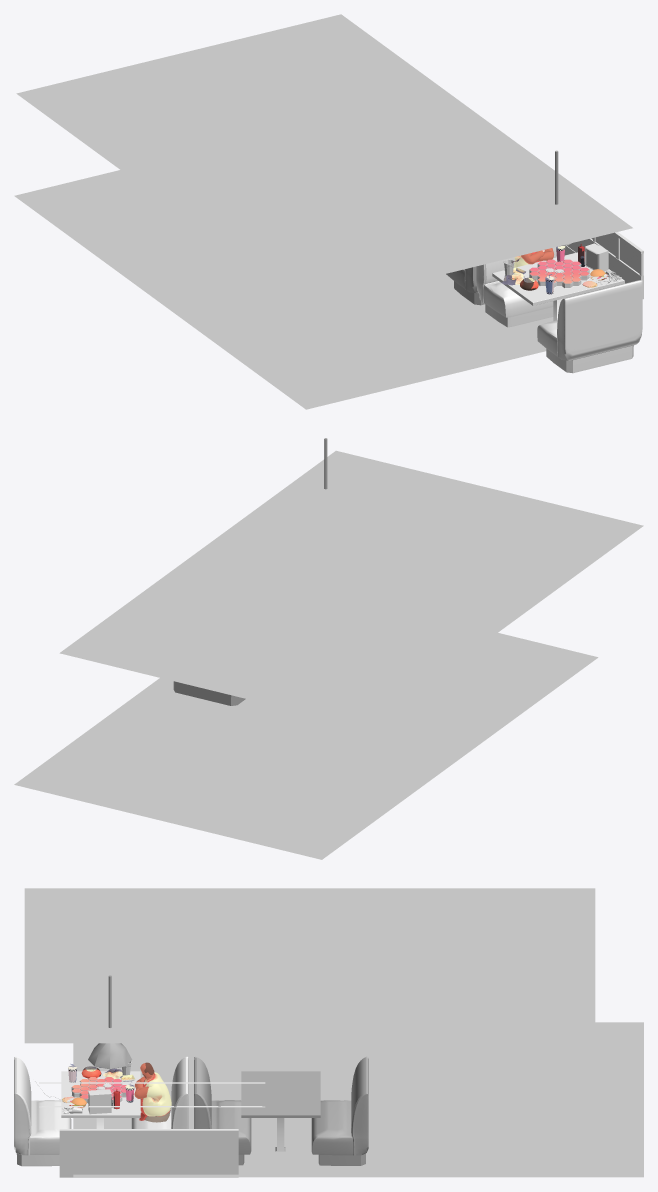
The model's file is full_scene.glb.
3 views of the same model, one above another, from view 1: azimuth 30°, elevation 25°; view 2: azimuth 150°, elevation 25°; view 3: azimuth 270°, elevation 25° (orthographic). The views are drawn at different scales.
Visible parts, largest first — view 1: floor.001, floor, boothSeat_user, boothSeat_moe, table, window, gameboard, table_background, napkin; view 2: floor.001, floor, table_background; view 3: floor.001, floor, table_background, wall, boothSeat_user, owner.001, boothSeat_moe, table, overheadLamp, window, gameboard, napkin.
Boxes of the visible parts, left/top/right/bottom form: floor.001: left=16, top=14, right=632, bottom=307; floor: left=14, top=170, right=553, bottom=409; boothSeat_user: left=537, top=280, right=642, bottom=373; boothSeat_moe: left=476, top=247, right=556, bottom=327; table: left=492, top=251, right=624, bottom=320; window: left=567, top=232, right=643, bottom=299; gameboard: left=529, top=259, right=589, bottom=288; table_background: left=446, top=266, right=484, bottom=305; napkin: left=585, top=243, right=608, bottom=271; floor.001: left=59, top=450, right=643, bottom=728; floor: left=14, top=633, right=598, bottom=859; table_background: left=173, top=681, right=245, bottom=705; floor.001: left=24, top=888, right=595, bottom=1043; floor: left=73, top=1022, right=643, bottom=1177; table_background: left=194, top=1056, right=368, bottom=1165; wall: left=59, top=1129, right=238, bottom=1177; boothSeat_user: left=14, top=1056, right=71, bottom=1166; owner.001: left=134, top=1062, right=171, bottom=1122; boothSeat_moe: left=131, top=1056, right=188, bottom=1128; table: left=61, top=1071, right=140, bottom=1128; overheadLamp: left=88, top=975, right=132, bottom=1069; window: left=39, top=1082, right=265, bottom=1107; gameboard: left=71, top=1077, right=126, bottom=1104; napkin: left=88, top=1089, right=111, bottom=1114.
Size of the model in its own units: 9.53 by 4.76 by 15.3.
Materials: 31 (10 with a texture image).
